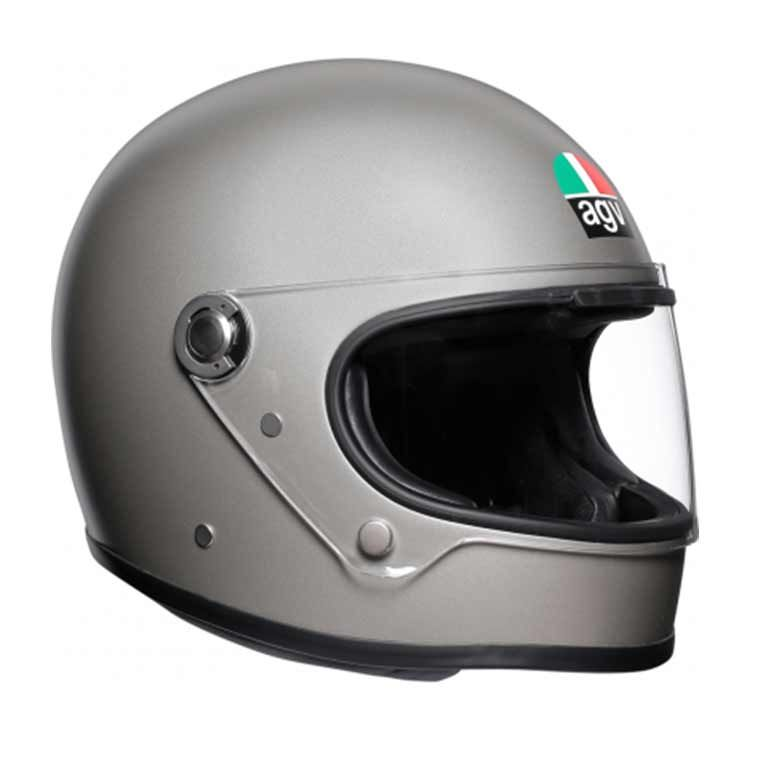with_helmet: (43, 48, 705, 680)
